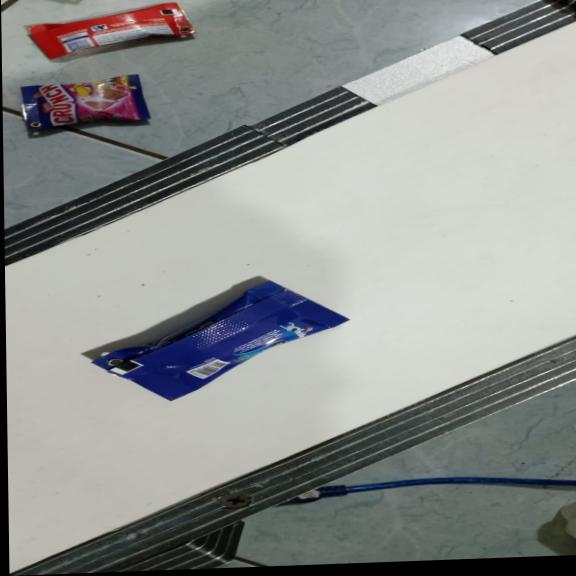Plastik: (86, 277, 352, 404), (27, 1, 197, 62), (18, 74, 150, 130)
